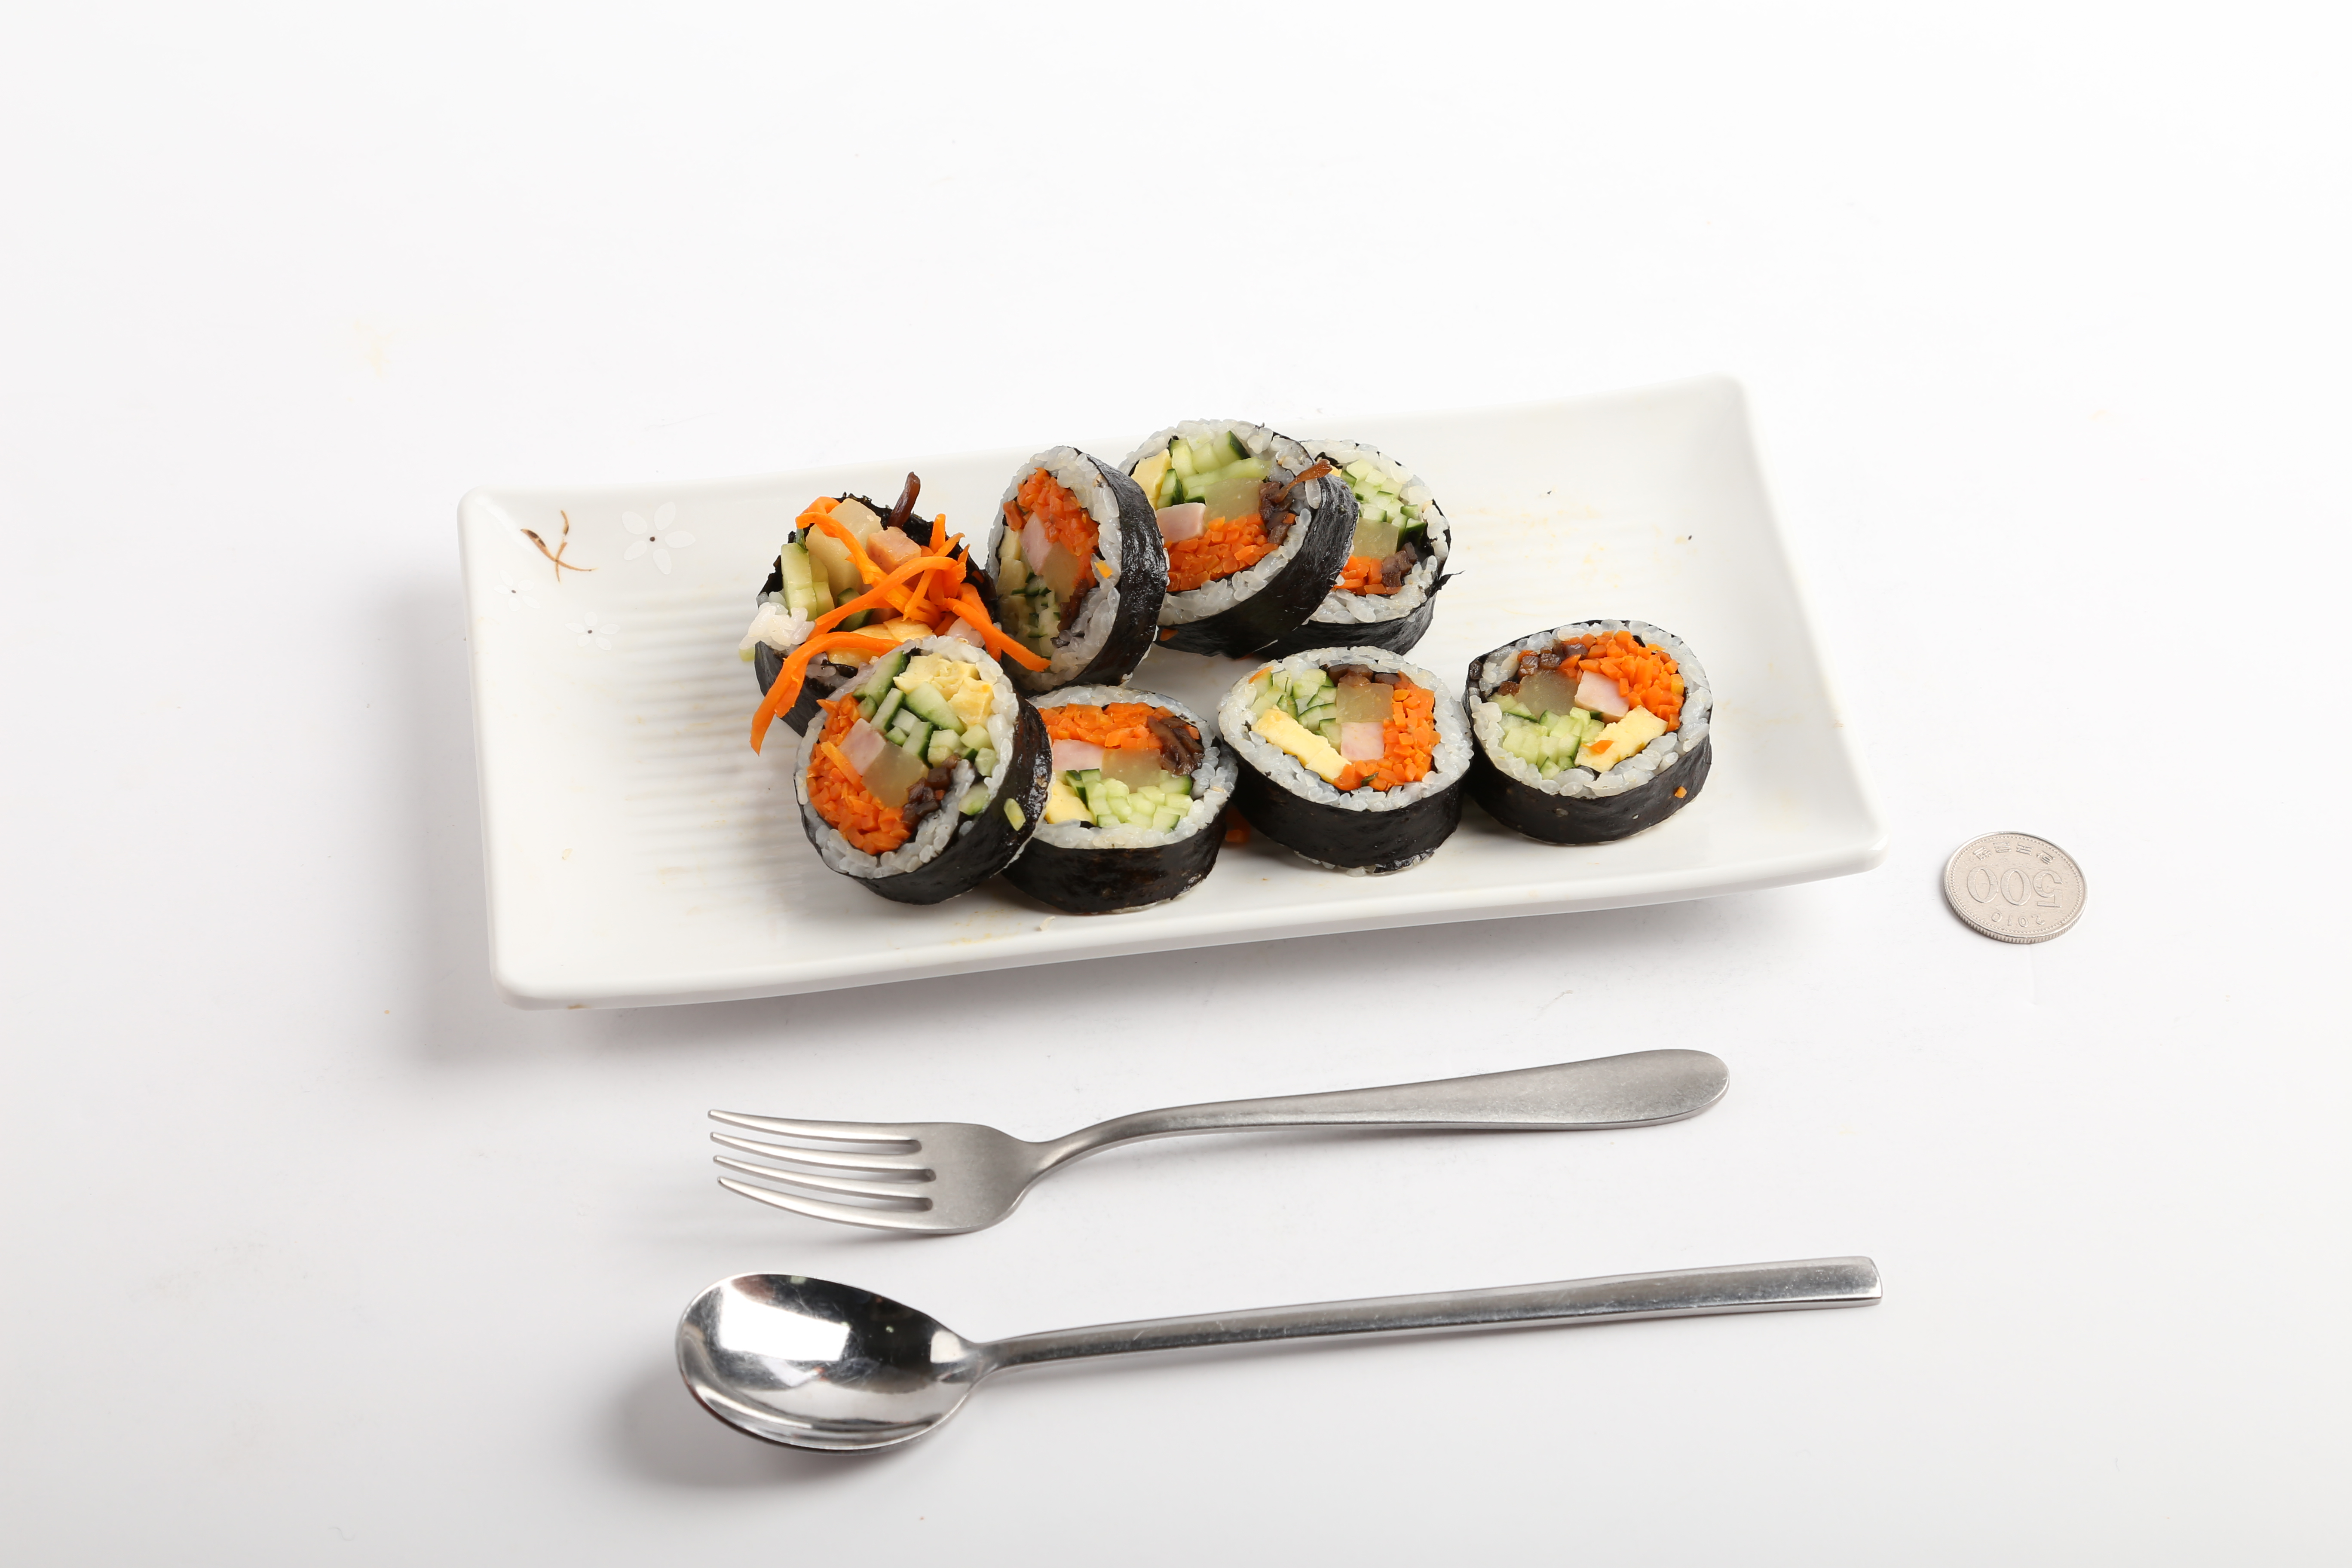dish: (458, 374, 1886, 1022)
ref_coin: (1930, 821, 2091, 948)
ref_fork: (698, 1102, 1090, 1242)
ref_spoon: (665, 1260, 1029, 1459)
김밥: (735, 416, 1720, 924)
